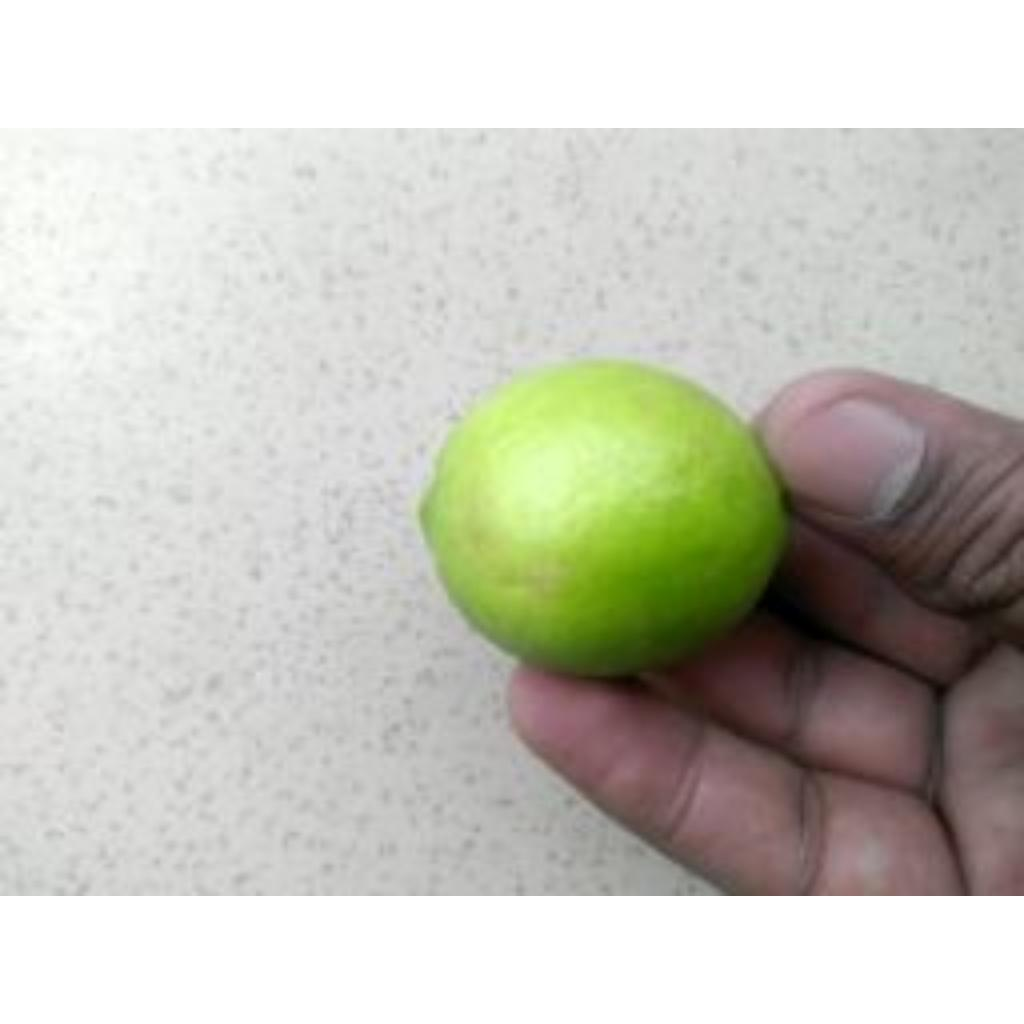lemon: (420, 360, 788, 675)
